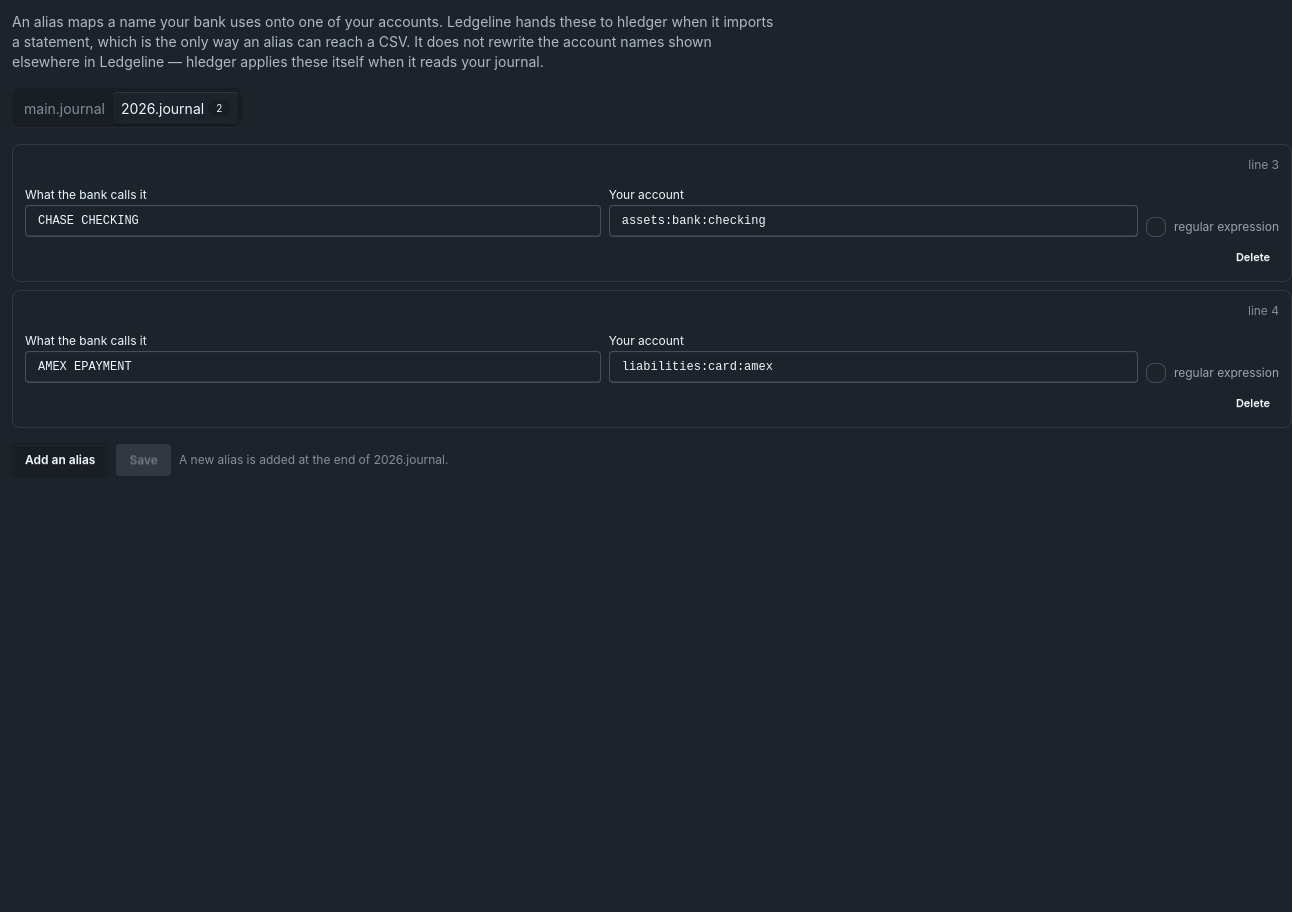
Scenario: COMPONENT AliasPanel › keeps the rows already on screen when a new one is added
Check: the number of fields is 4, box [25, 205, 601, 237]; [609, 205, 1138, 237]; [25, 351, 601, 383]; [609, 351, 1138, 383]
Click the button with test id "imports-alias-add".
click(60, 460)  # box [12, 444, 108, 476]
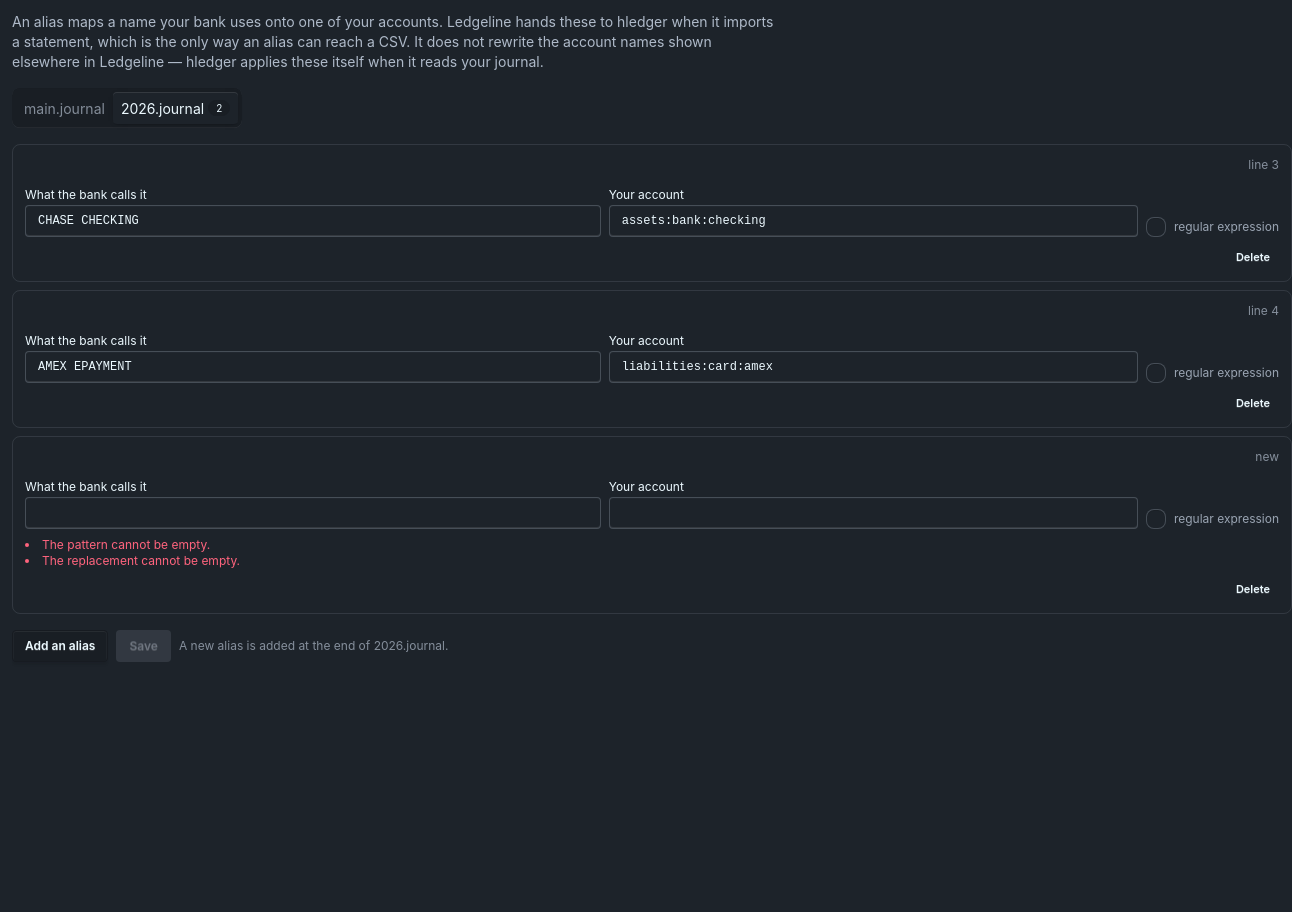
Check: the 1st field showing "CHASE CHECKING" is shown, box [25, 205, 601, 237]
Check: the number of fields is 6, box [25, 205, 601, 237]; [609, 205, 1138, 237]; [25, 351, 601, 383]; [609, 351, 1138, 383]; [25, 497, 601, 529]; [609, 497, 1138, 529]
